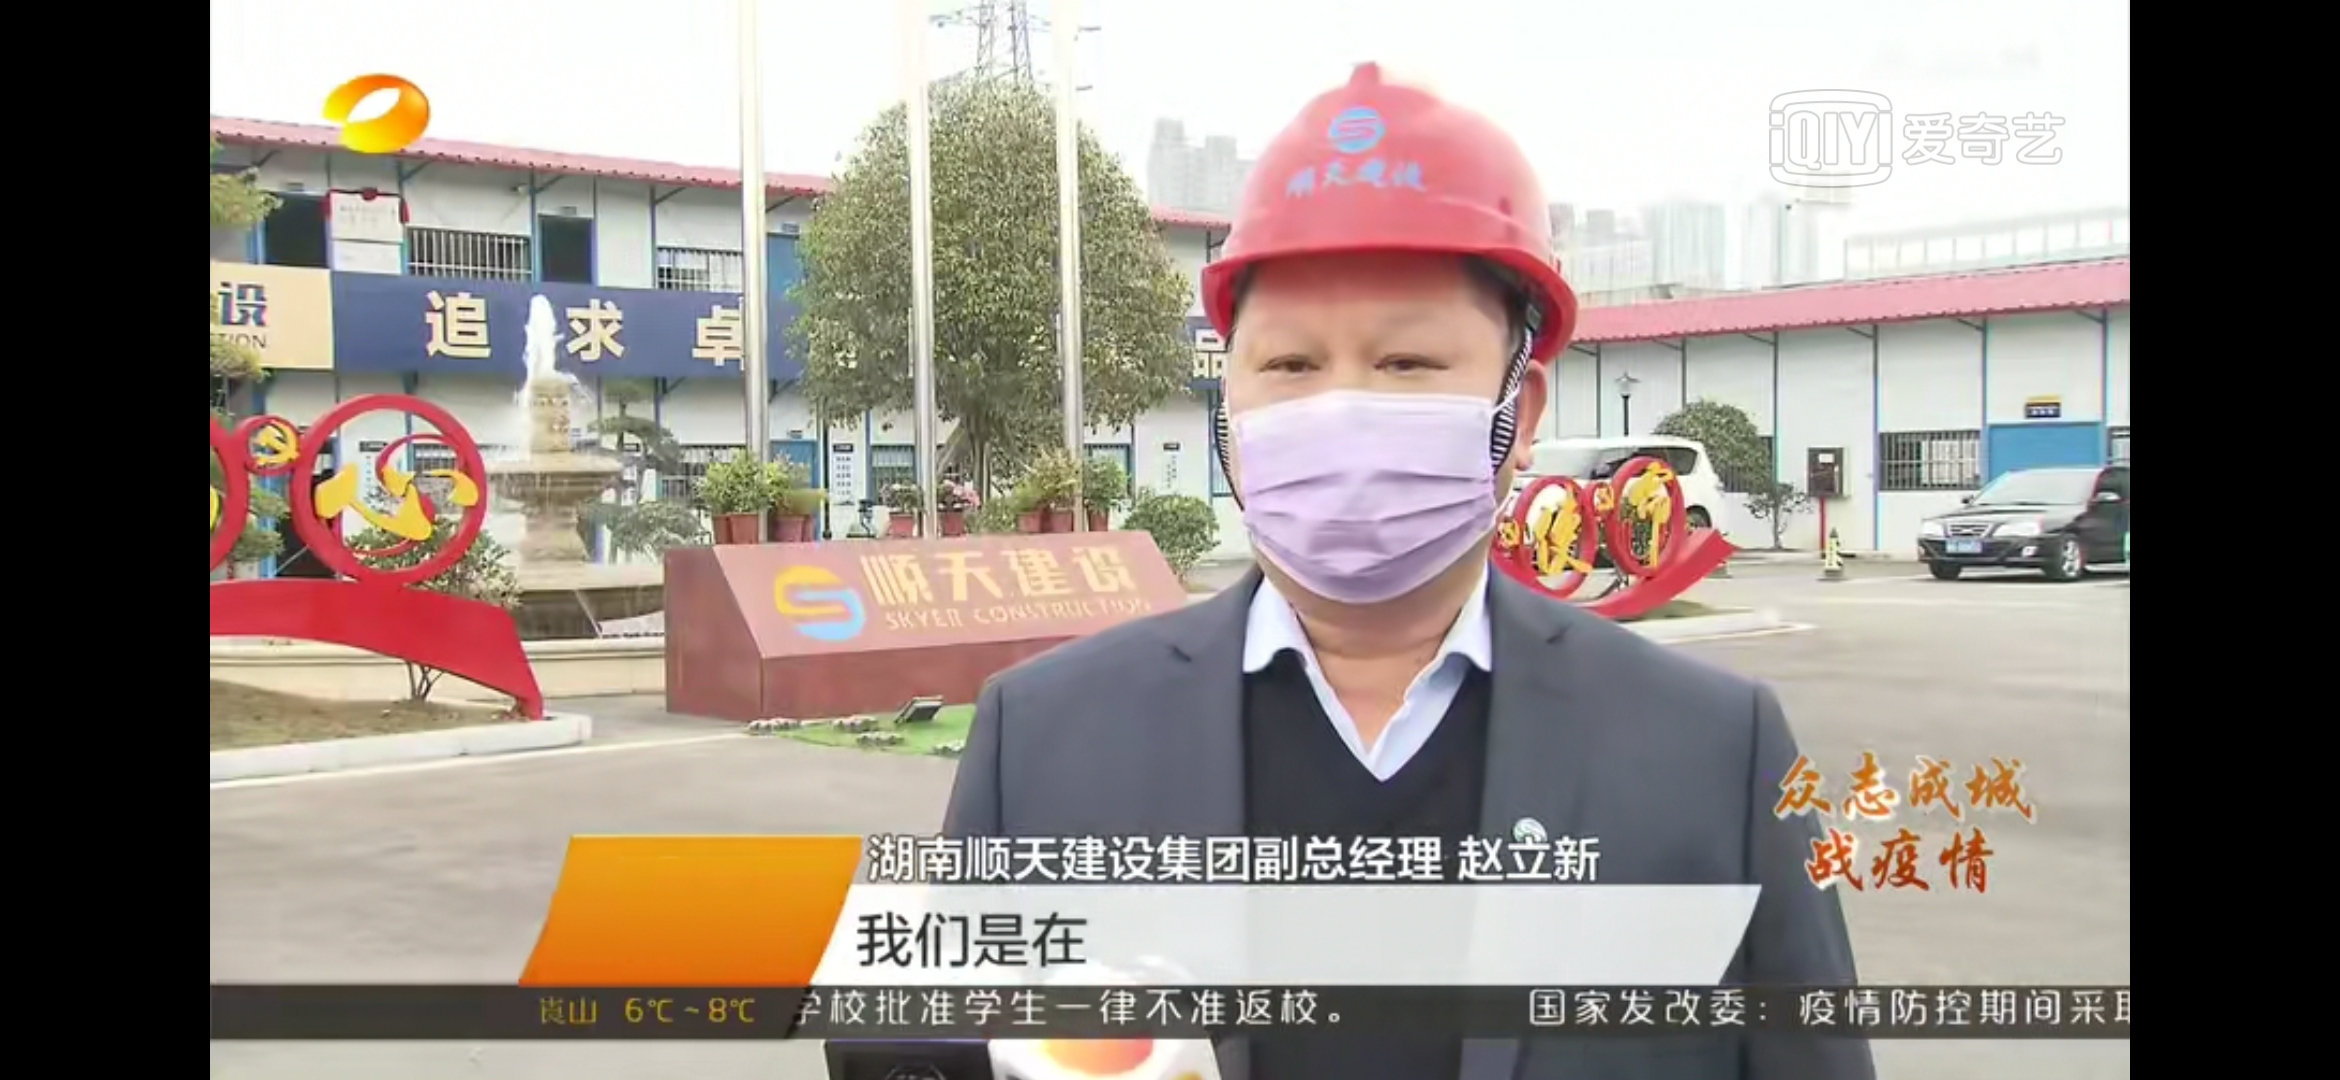correctlyWear: (1216, 289, 1549, 606)
